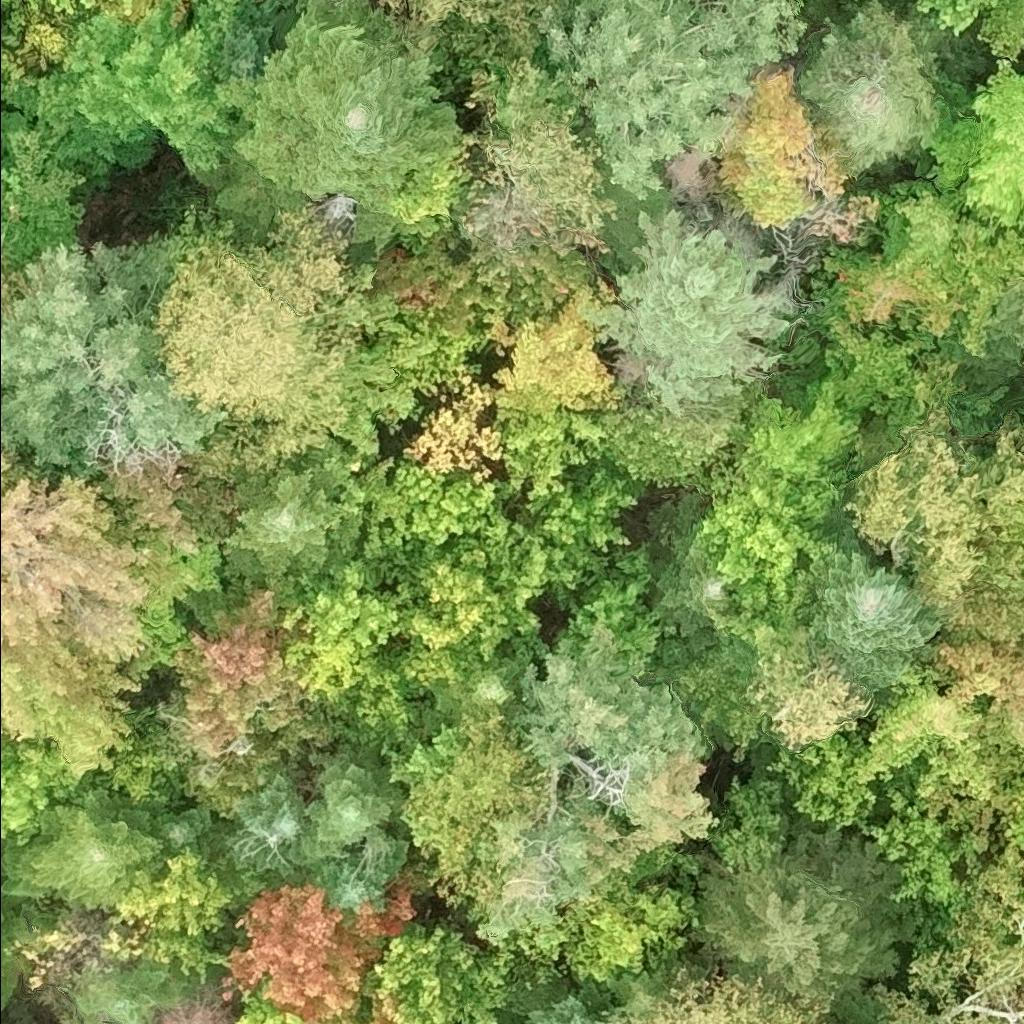crown: (466, 622, 722, 958), (150, 200, 402, 483), (208, 0, 460, 259), (0, 238, 229, 485), (537, 0, 808, 206), (0, 444, 153, 776), (581, 207, 798, 416), (26, 0, 244, 191), (692, 826, 922, 1000), (843, 403, 1023, 615), (281, 555, 433, 753), (217, 880, 418, 1023), (398, 711, 545, 905), (386, 534, 551, 700), (798, 511, 944, 691), (479, 457, 646, 612), (794, 0, 940, 171), (172, 587, 315, 760), (851, 665, 1011, 814), (0, 770, 169, 909), (334, 302, 486, 456), (221, 451, 354, 611), (693, 466, 839, 611), (719, 65, 847, 224), (735, 374, 863, 522), (111, 526, 233, 681), (925, 59, 1023, 240), (107, 843, 237, 979), (291, 733, 407, 876), (361, 919, 520, 1023), (925, 837, 1023, 1005), (563, 870, 699, 983), (362, 462, 511, 562), (810, 247, 965, 337), (936, 212, 1023, 372), (735, 650, 873, 750), (367, 222, 488, 335), (554, 549, 665, 671), (382, 0, 565, 72), (873, 179, 979, 301), (820, 319, 934, 432), (610, 965, 828, 1023), (764, 722, 876, 834), (858, 796, 961, 910), (471, 242, 594, 333), (99, 455, 207, 554), (647, 551, 744, 659), (501, 406, 610, 502), (937, 633, 1023, 752), (389, 129, 472, 252), (223, 758, 309, 876), (418, 649, 535, 735), (294, 839, 413, 920), (0, 739, 88, 846), (64, 958, 203, 1023), (709, 764, 791, 867), (600, 948, 685, 1022), (0, 889, 49, 1010), (211, 0, 279, 82), (870, 983, 1008, 1023), (516, 977, 610, 1023), (155, 802, 229, 856), (913, 0, 1001, 35), (234, 983, 307, 1023), (0, 44, 34, 85), (999, 789, 1023, 845), (47, 0, 74, 16), (120, 0, 137, 19), (80, 0, 101, 9), (27, 0, 40, 9), (1021, 575, 1023, 586)
